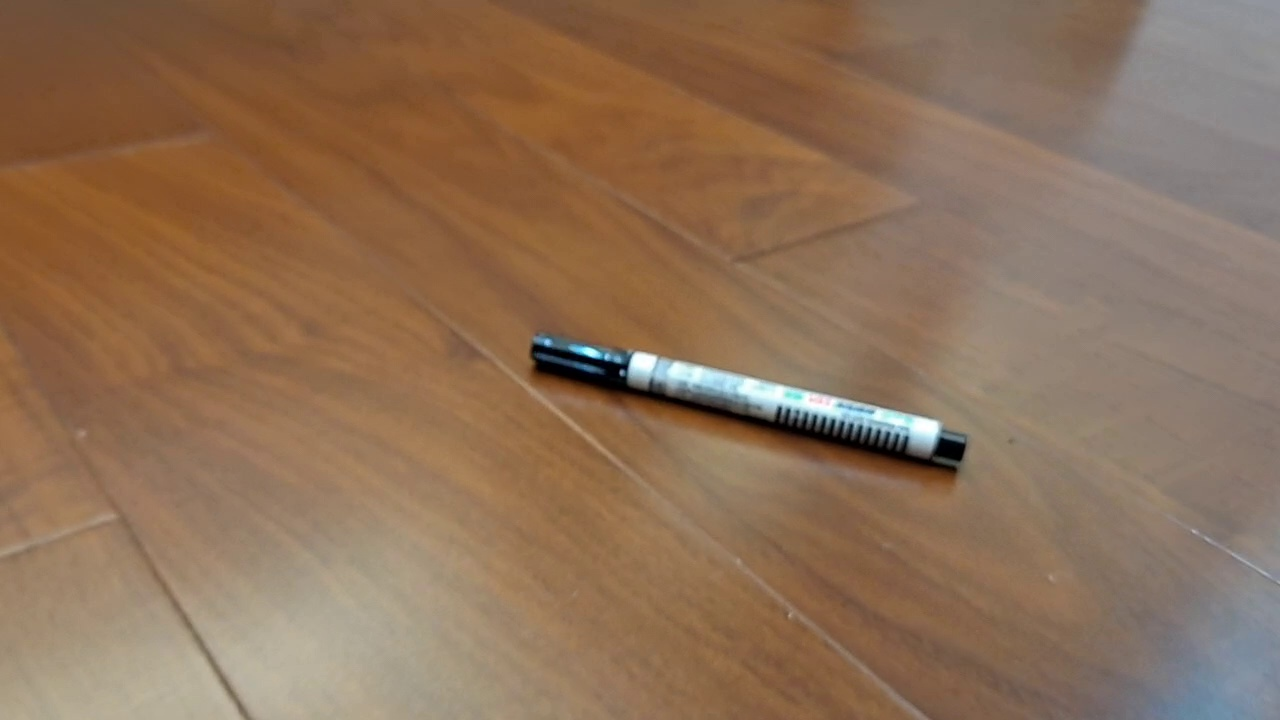pen: (529, 329, 967, 463)
